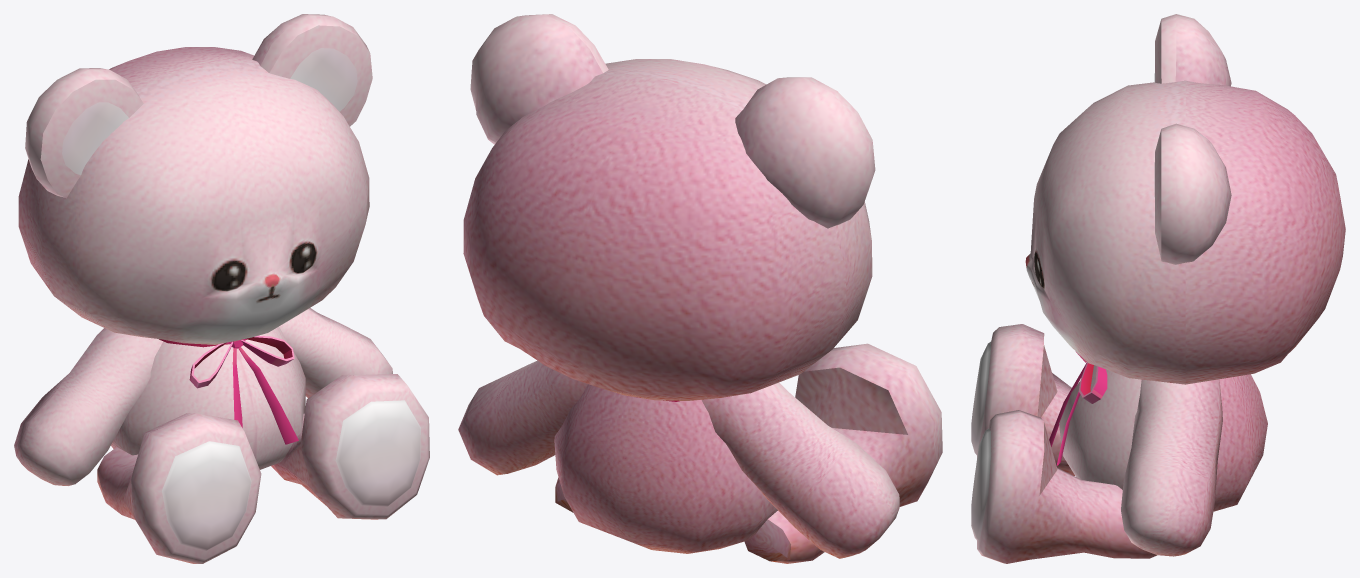
Rendered from Doll_OB_PhotoBooth_001_bear.FBX.
3 views of the same model, side by side, from view 1: azimuth 30°, elevation 25°; view 2: azimuth 150°, elevation 25°; view 3: azimuth 270°, elevation 25° (orthographic). The views are drawn at different scales.
Parts seen in each view (by area): view 1: Doll_OB_PhotoBooth_001_bear; view 2: Doll_OB_PhotoBooth_001_bear; view 3: Doll_OB_PhotoBooth_001_bear.
Part boxes in pixels (x1,y1,x2,y2): Doll_OB_PhotoBooth_001_bear: (14,14,429,563); Doll_OB_PhotoBooth_001_bear: (458,14,942,563); Doll_OB_PhotoBooth_001_bear: (971,14,1345,563).
Size of the model in its own units: 3.76 by 4.33 by 3.3.
